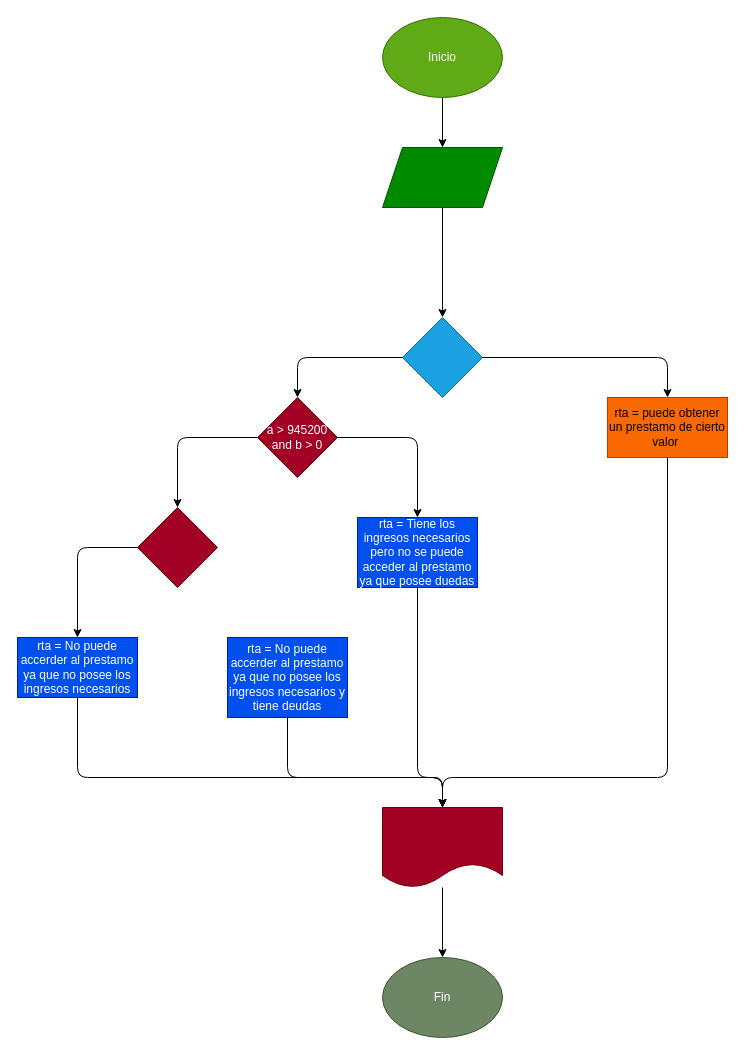
Some shapes in this 745 by 1055 pixel diagram are drawn without their labels. The shapes that lost their labels are listed below. From the top down, each one's box as (x1, y1, x2, y2) in pixels, then its label:
(382, 146, 502, 208): a b
(402, 316, 482, 398): a > 945200 and b == 0
(136, 506, 218, 588): a < 945200 and b == 0
(382, 806, 502, 888): rta
